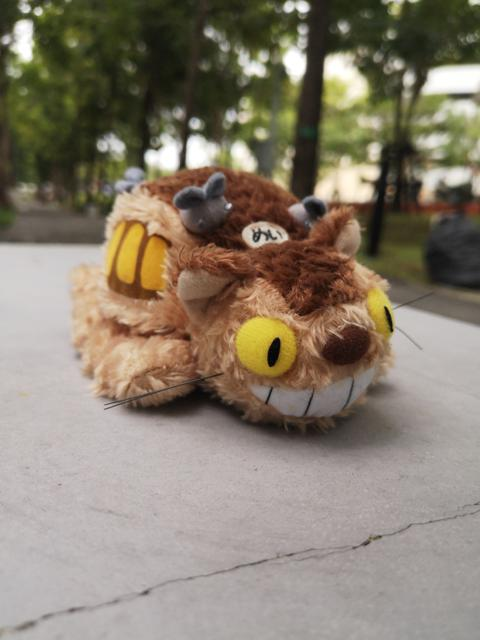nekobus: (57, 159, 441, 442)
